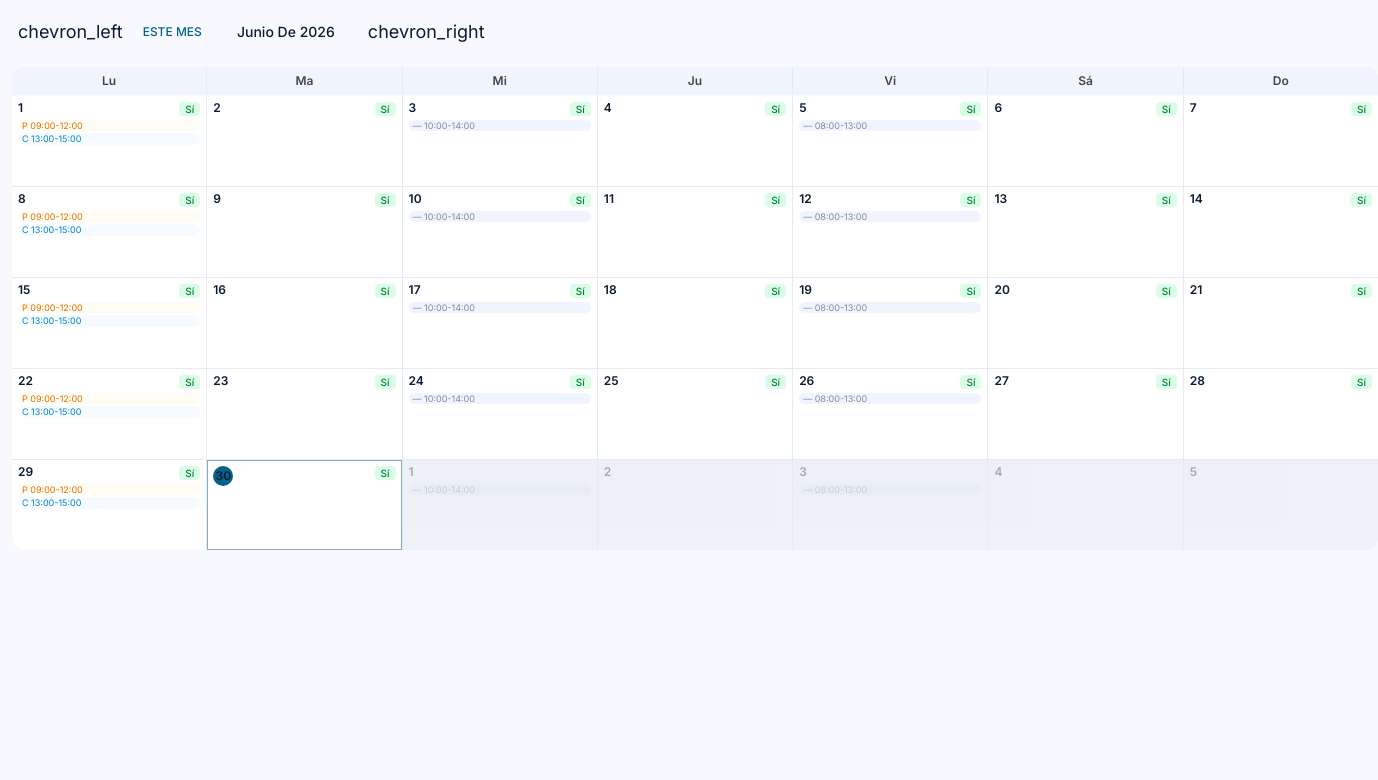
Scenario: CalendarGrid › resets to current month on ESTE MES click
Note: Navigate away
Click the button with aria-label "Mes anterior": (70, 32) [12,12,129,51]
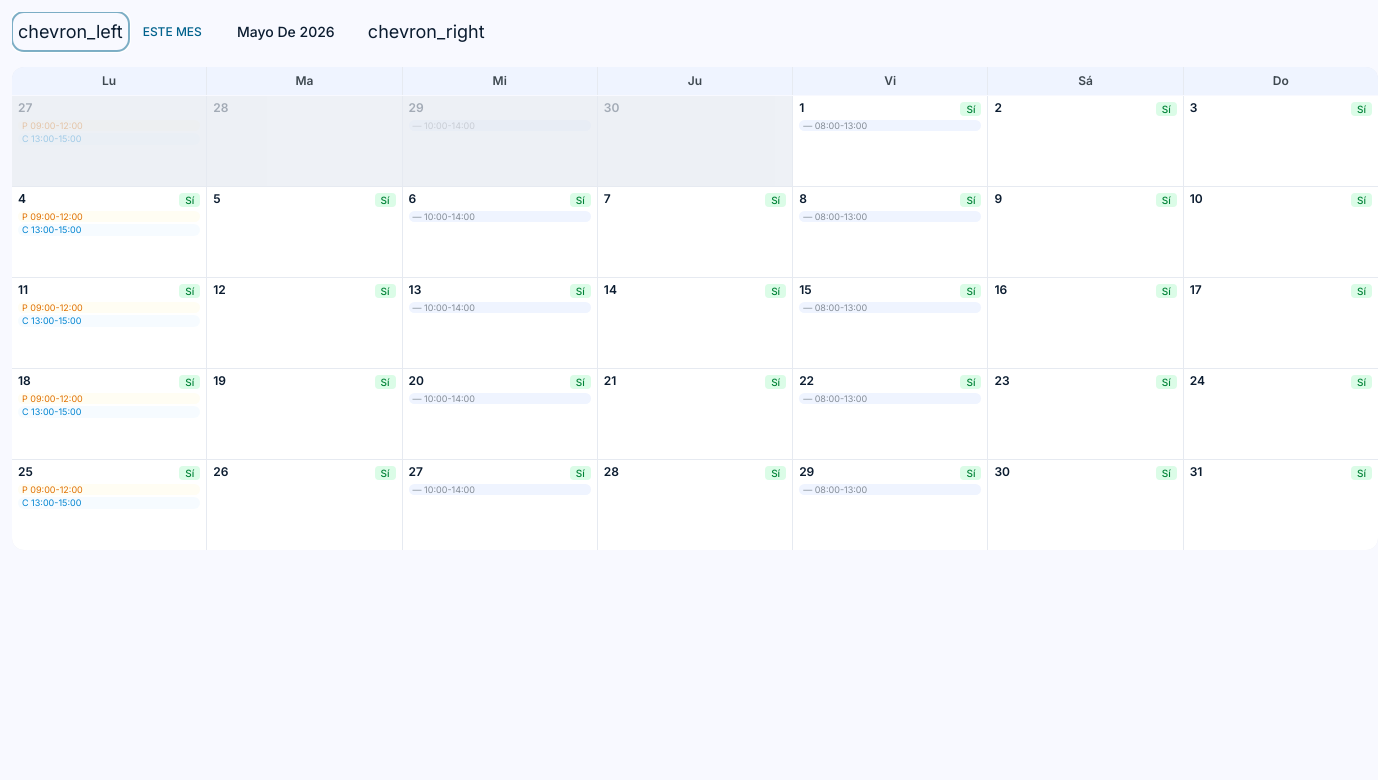
Check: the text "mayo de 2026" is shown, box [237,22,335,40]
Note: Click ESTE MES (appears in desktop + mobile nav)
Click the button "ESTE MES": (172, 32) [135,20,210,44]
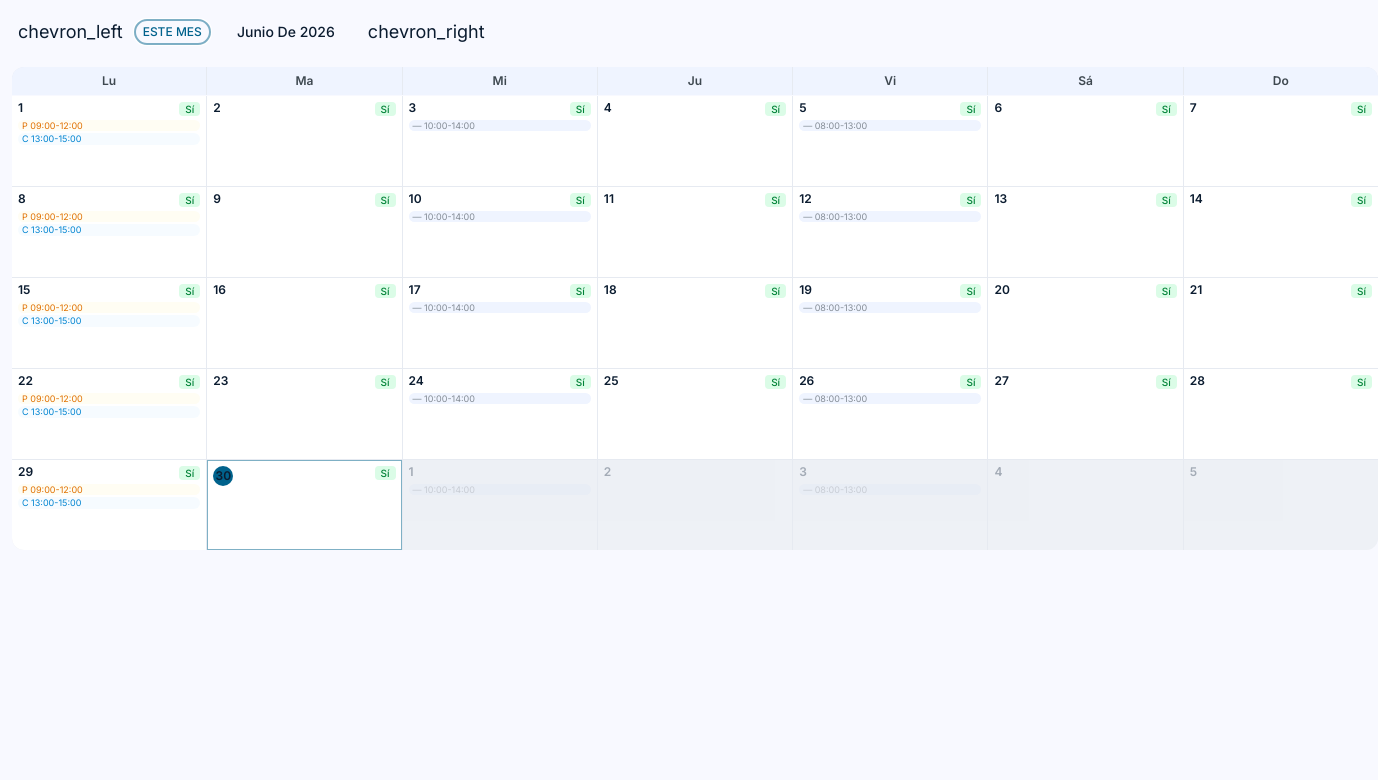
Check: the text "junio de 2026" is shown, box [237,22,335,40]
